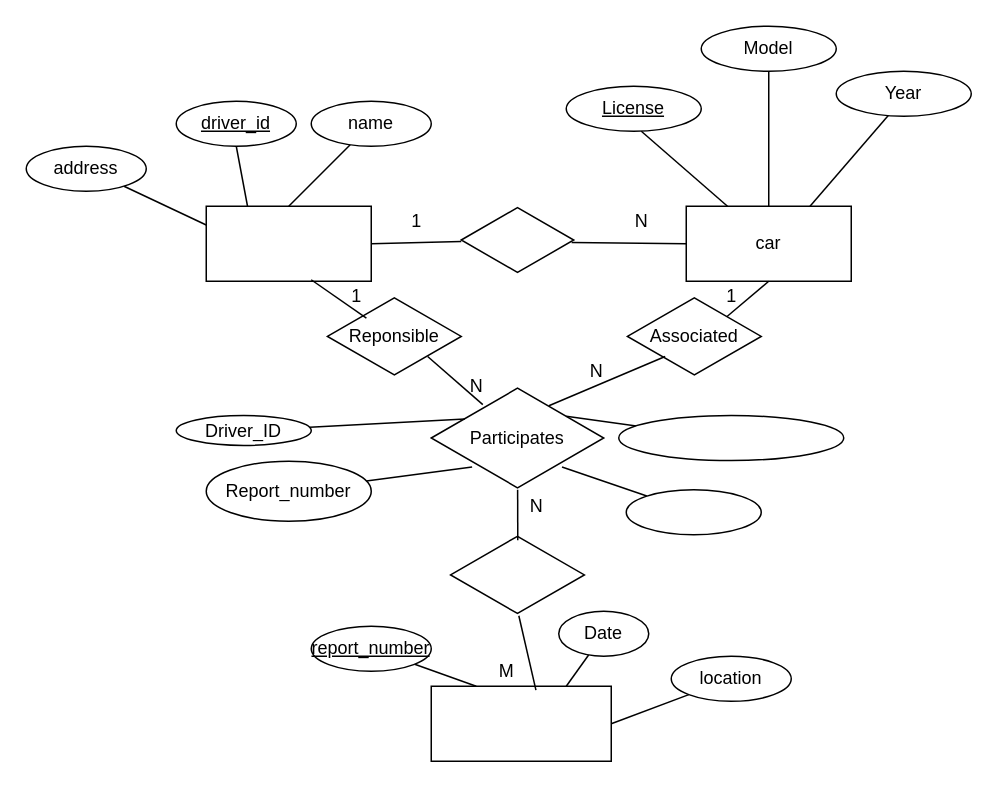
Some shapes in this 998 by 788 pixel diagram are drawn without their labels. The shapes that lost their labels are listed below. From the top down, each one's centre as x and y in pixels, then its label:
pixel 288 243: customer
pixel 517 239: owns
pixel 730 437: Damage_Amount
pixel 693 511: Licence
pixel 516 574: In A
pixel 520 723: Accident
